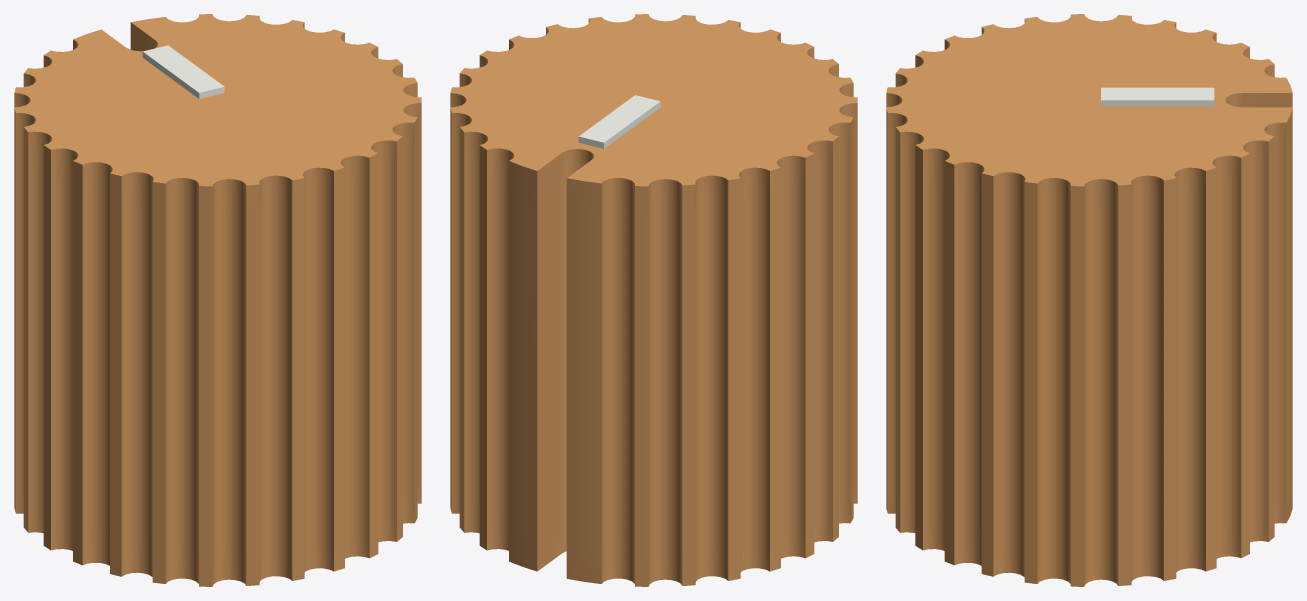
The model's file is GUARD.glb.
3 renders of one model, left to right at view 1: azimuth 30°, elevation 25°; view 2: azimuth 150°, elevation 25°; view 3: azimuth 270°, elevation 25°, orthographic.
Visible parts, largest first — view 1: GUARD/0000_emaitee_guard_knob, GUARD/0002_guard_white_rotation_mark; view 2: GUARD/0000_emaitee_guard_knob, GUARD/0002_guard_white_rotation_mark; view 3: GUARD/0000_emaitee_guard_knob, GUARD/0002_guard_white_rotation_mark.
Boxes of the visible parts, bbox=[...] form: GUARD/0000_emaitee_guard_knob: bbox=[14, 14, 421, 586]; GUARD/0002_guard_white_rotation_mark: bbox=[142, 45, 224, 98]; GUARD/0000_emaitee_guard_knob: bbox=[450, 14, 857, 586]; GUARD/0002_guard_white_rotation_mark: bbox=[578, 95, 660, 148]; GUARD/0000_emaitee_guard_knob: bbox=[886, 14, 1292, 586]; GUARD/0002_guard_white_rotation_mark: bbox=[1101, 87, 1214, 106].
Bounding box in the file's own units: 0.018 × 0.0205 × 0.0179.
